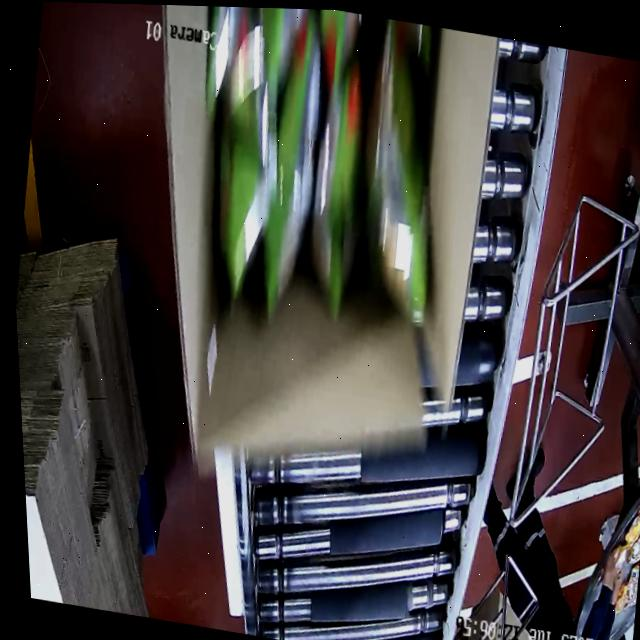YOGURT_HERB: (164, 5, 476, 347)
